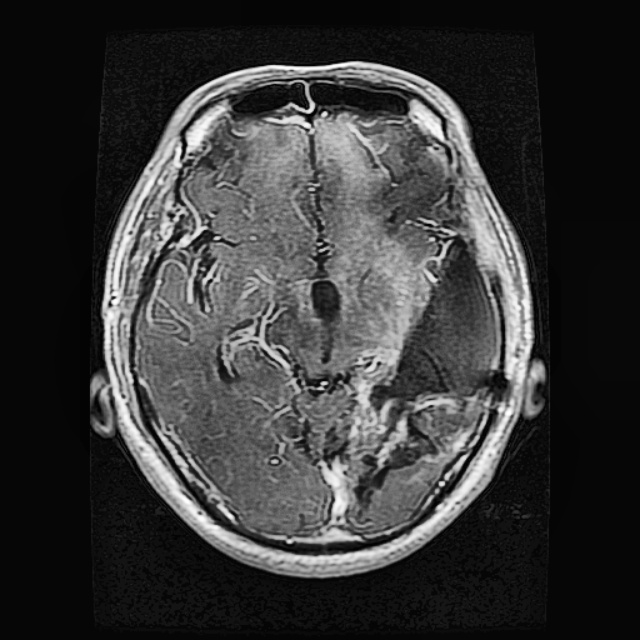Glioma: (295, 238, 502, 520)
